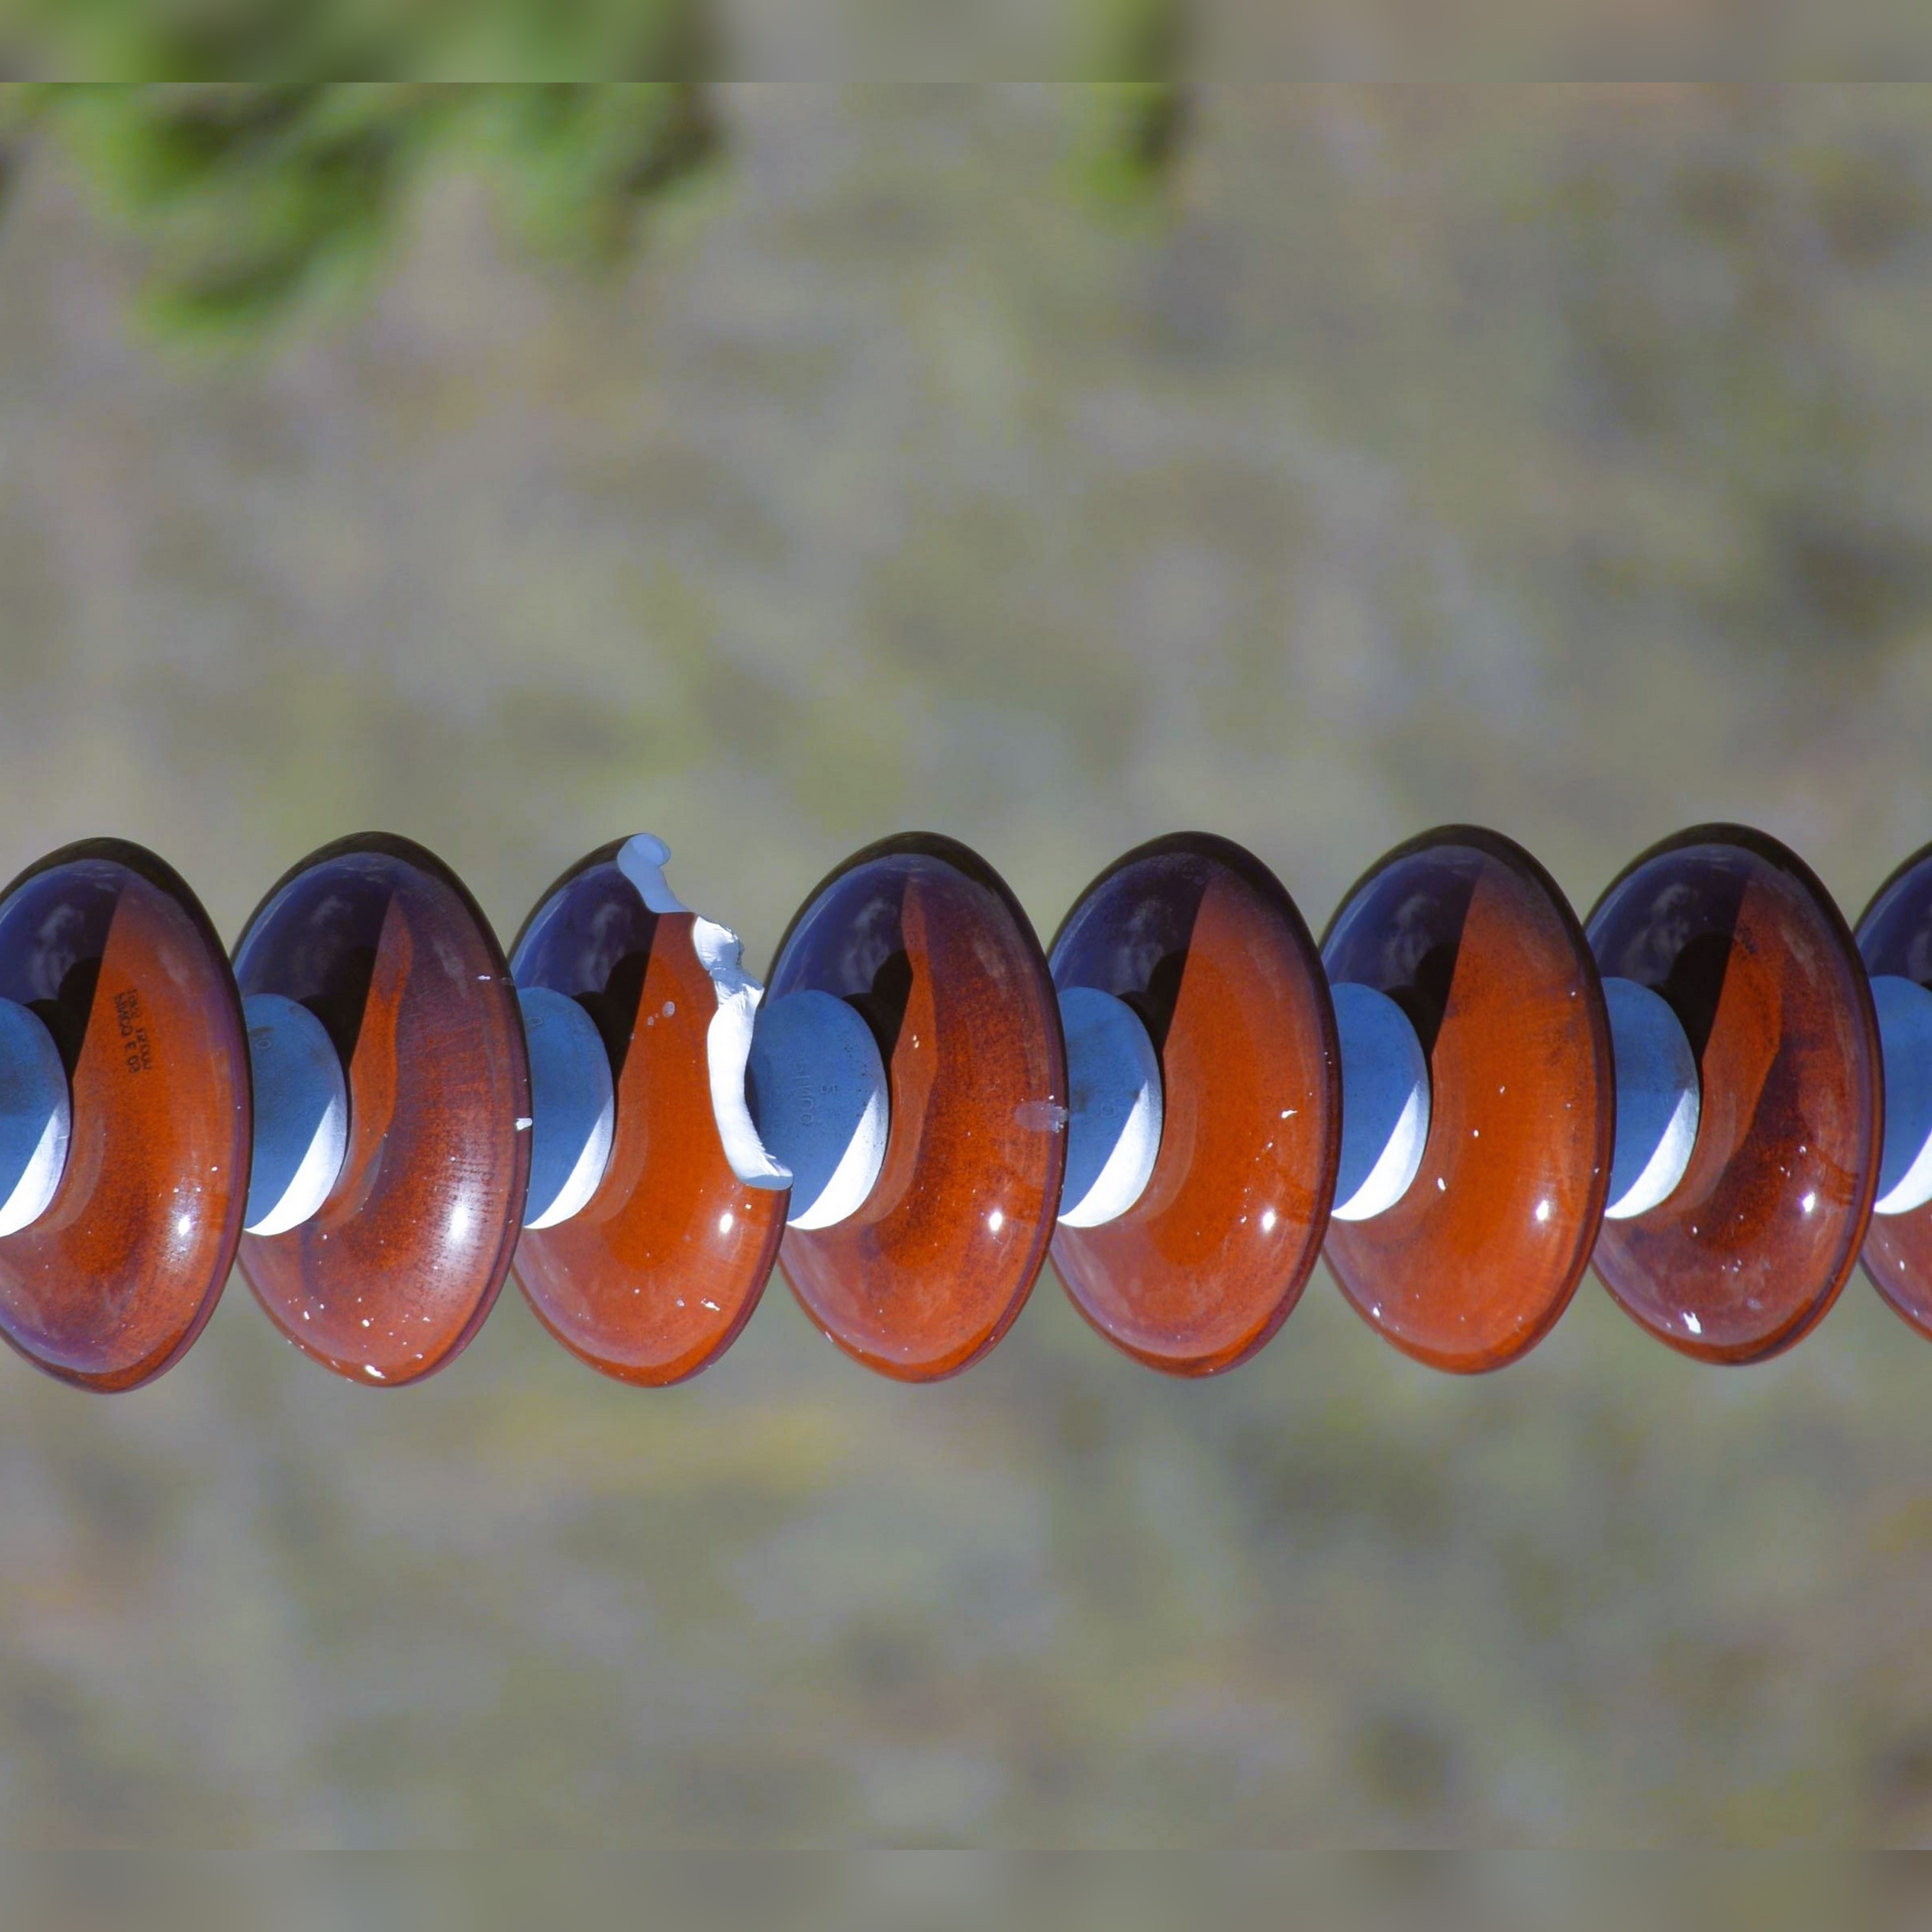insulator breakage: (499, 793, 800, 1401)
